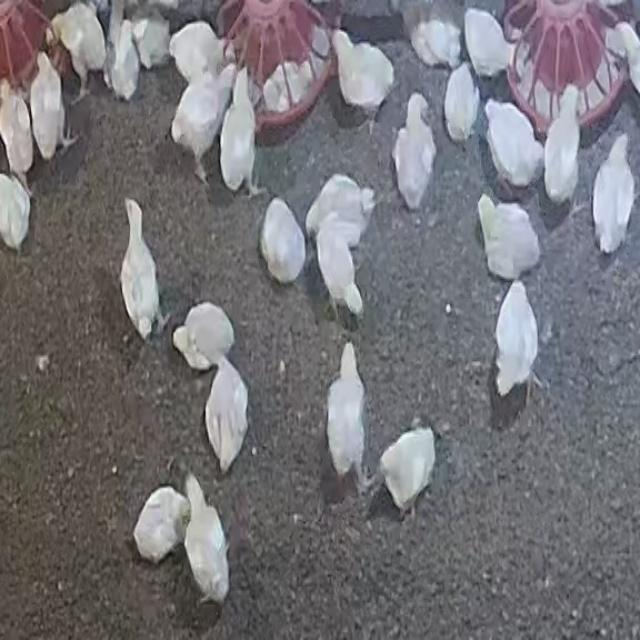chicken: (116, 195, 168, 337), (172, 67, 232, 186), (182, 472, 230, 604), (326, 343, 367, 493), (483, 96, 544, 195), (492, 278, 538, 404), (331, 29, 394, 120), (49, 2, 108, 99), (313, 225, 370, 321), (378, 425, 436, 517), (204, 359, 248, 475), (478, 196, 538, 281), (593, 135, 635, 253), (393, 95, 436, 210), (220, 68, 258, 194), (306, 174, 372, 246), (133, 484, 188, 565), (170, 304, 233, 374), (543, 91, 582, 204), (460, 4, 520, 76), (399, 0, 464, 64), (259, 197, 306, 283), (29, 51, 66, 160), (255, 57, 318, 114), (168, 20, 224, 81), (0, 84, 33, 185), (127, 7, 173, 71), (105, 20, 141, 101), (444, 64, 479, 142), (0, 172, 32, 251), (614, 21, 640, 104)
